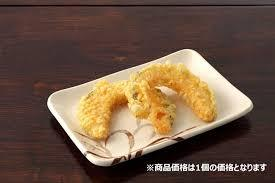pumpkin: (80, 82, 173, 139), (129, 66, 216, 121)
